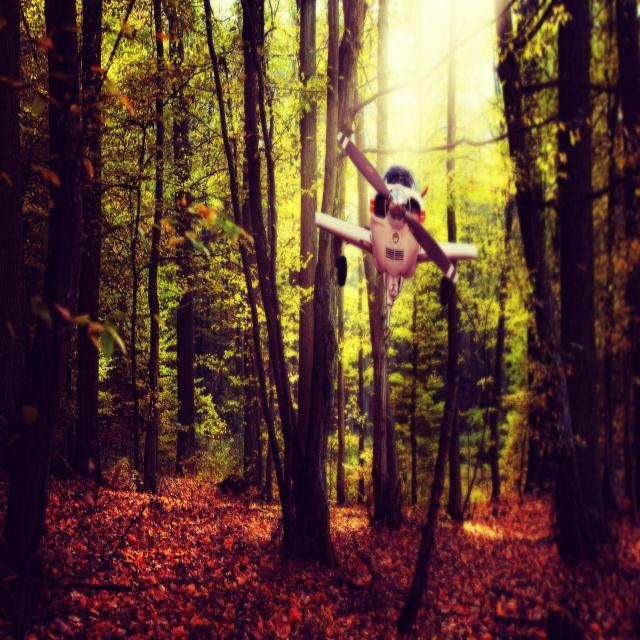airplane: (314, 128, 477, 329)
